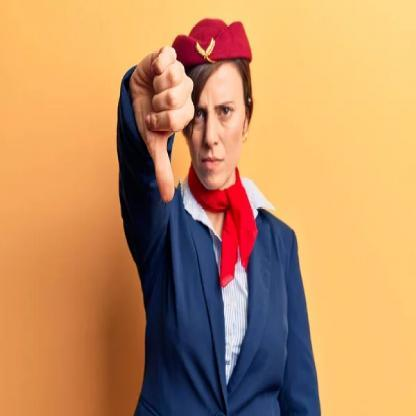thumb_down: (127, 41, 197, 206)
